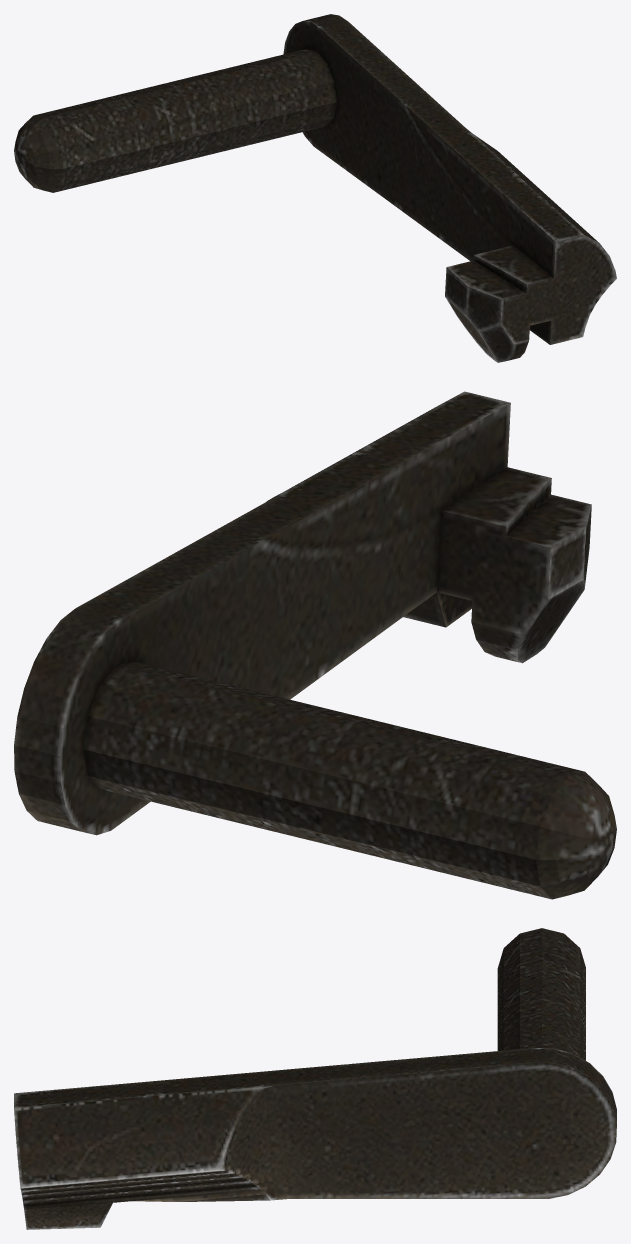
3 renders of one model, top to bottom at view 1: azimuth 30°, elevation 25°; view 2: azimuth 150°, elevation 25°; view 3: azimuth 270°, elevation 25°, orthographic. The views are drawn at different scales.
Parts seen in each view (by area): view 1: TW_5f3e777688ca2d00ad199d25_PZ_Import; view 2: TW_5f3e777688ca2d00ad199d25_PZ_Import; view 3: TW_5f3e777688ca2d00ad199d25_PZ_Import.
Boxes of the visible parts, <box> form: TW_5f3e777688ca2d00ad199d25_PZ_Import: <box>14,14,616,362</box>; TW_5f3e777688ca2d00ad199d25_PZ_Import: <box>14,391,616,899</box>; TW_5f3e777688ca2d00ad199d25_PZ_Import: <box>14,928,616,1229</box>.
Size of the model in its own units: 0.0155 by 0.0202 by 0.00685.
Materials: 1 (1 with a texture image).
